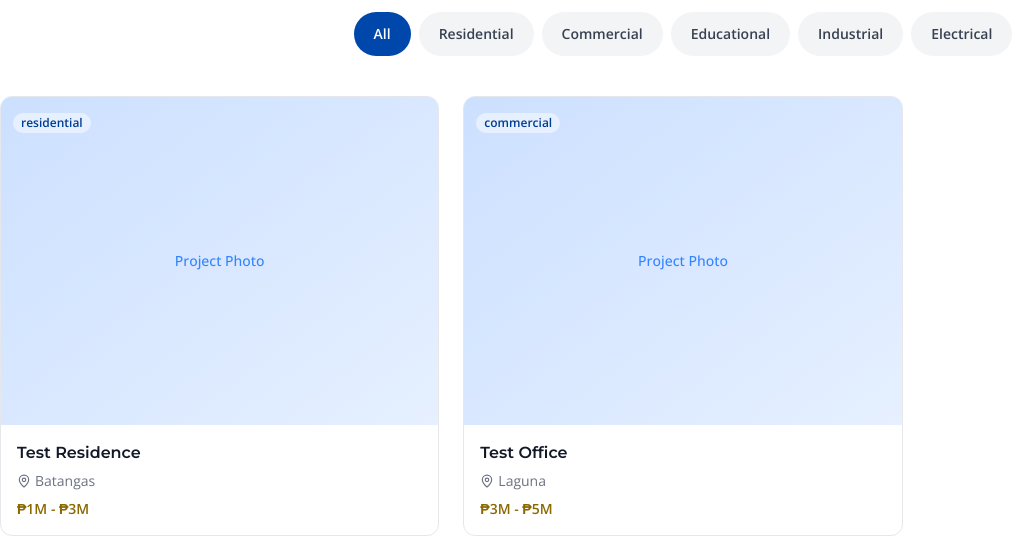
ProjectsListing › shows empty state for no matches
Click the button "Educational" at x=730, y=34, box [671,12,790,56]
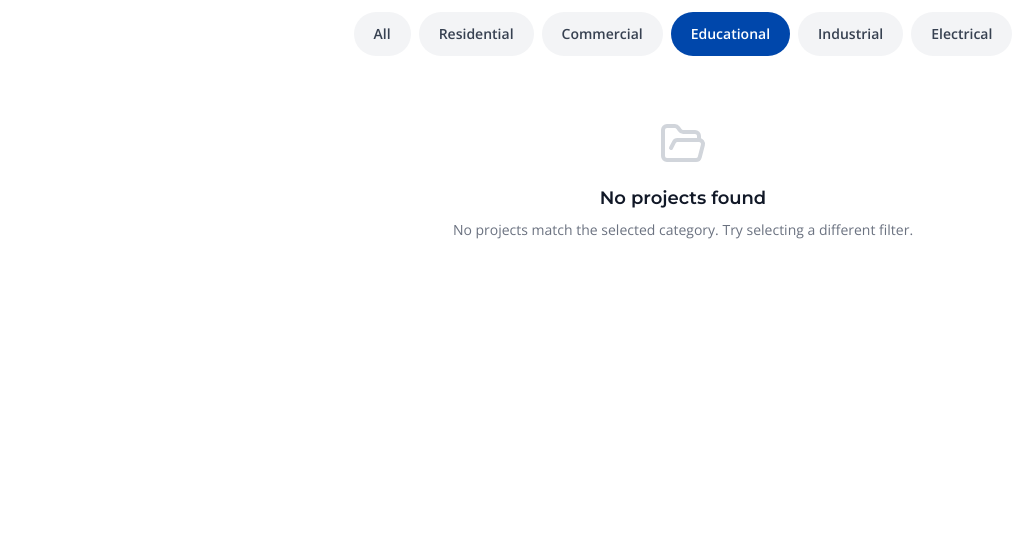
Check: the heading "No projects found" is shown, box [600,184,766,212]
